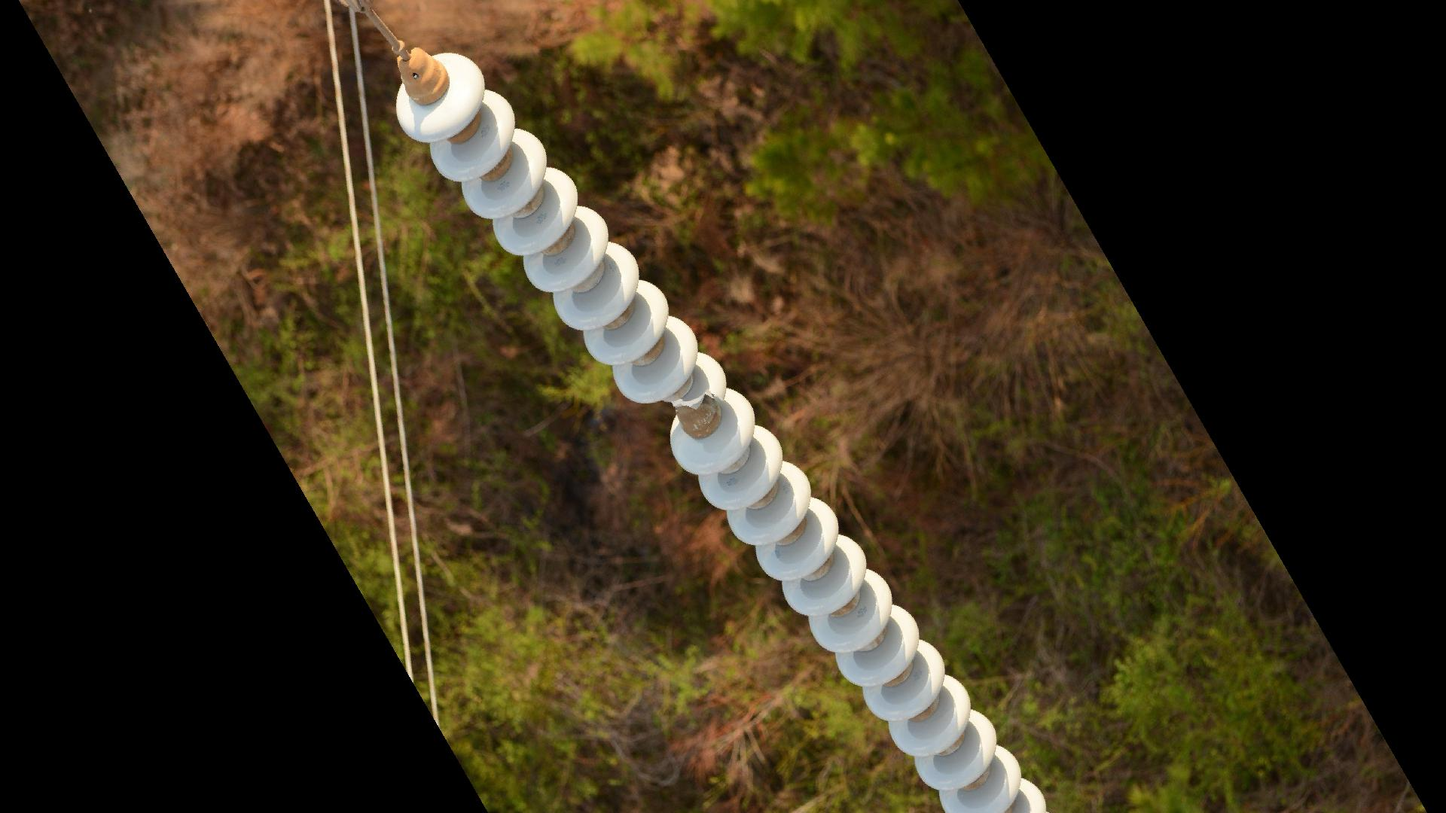insulator: (389, 47, 1054, 813)
insulator_breakage: (666, 382, 731, 412)
